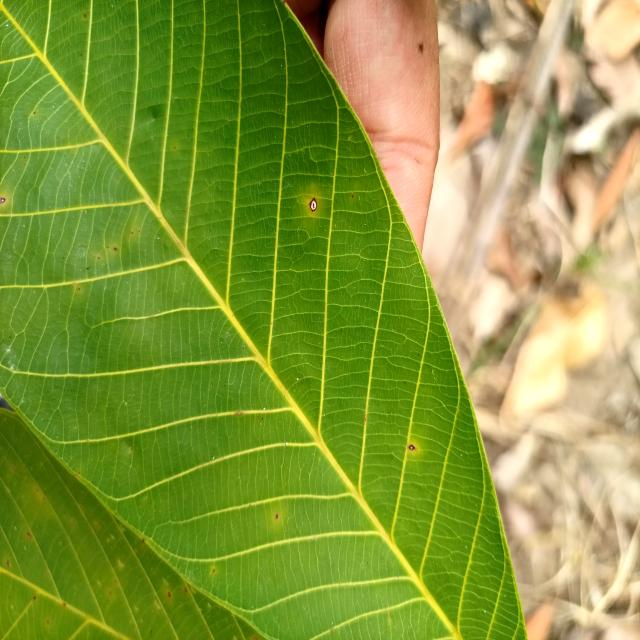Colletotrichum: (309, 197, 317, 212), (408, 444, 416, 450), (1, 198, 5, 203)
